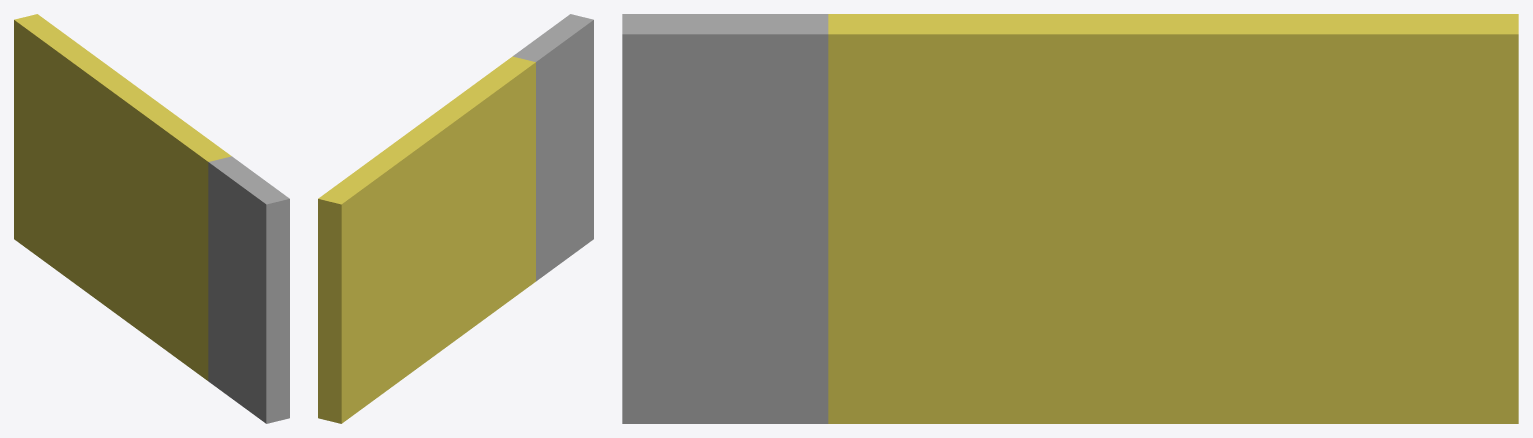
Rendered from Banknot.fbx.
3 renders of one model, left to right at view 1: azimuth 30°, elevation 25°; view 2: azimuth 150°, elevation 25°; view 3: azimuth 270°, elevation 25°, orthographic. The views are drawn at different scales.
Visible parts, largest first — view 1: Cube; view 2: Cube; view 3: Cube.
Boxes of the visible parts, box(x1,y1,x2,y2) form: Cube: box(14, 14, 289, 423); Cube: box(318, 14, 593, 423); Cube: box(622, 14, 1518, 423).
Bounding box in the file's own units: 8.08 × 72.21 × 151.
